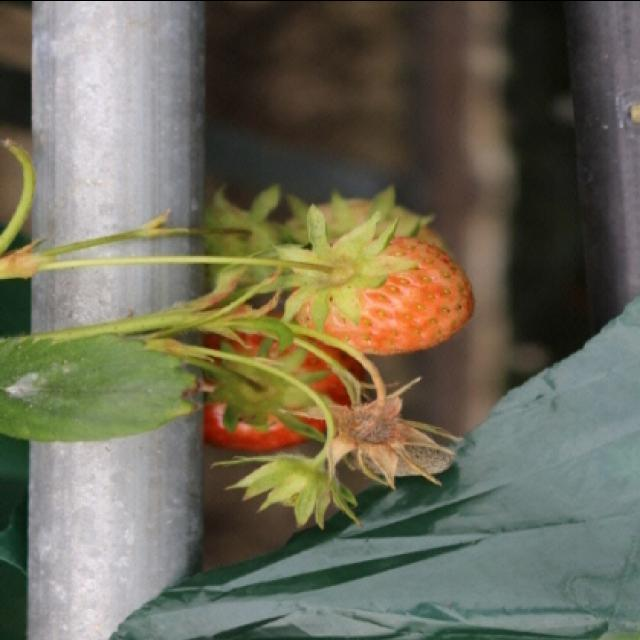Gray Mold: (327, 392, 455, 483)
